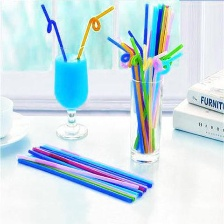drinking_straw: (12, 139, 158, 205), (74, 3, 116, 63), (35, 3, 71, 65)
glass: (123, 70, 168, 167), (48, 42, 91, 142)
